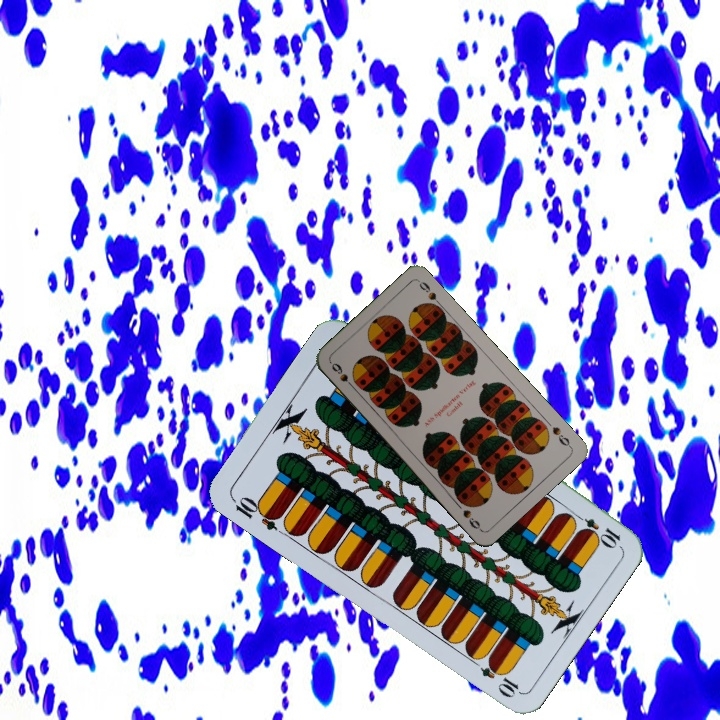E10: (227, 492, 284, 533), (568, 509, 623, 550)
S9: (327, 359, 358, 392), (548, 422, 574, 450)
